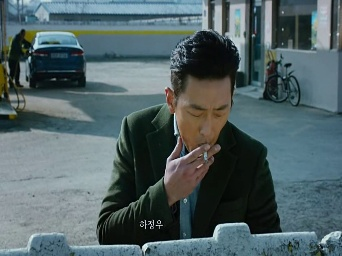smoke: (202, 143, 208, 162)
